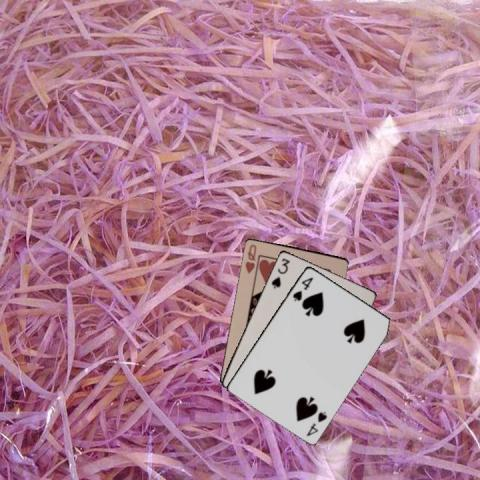3s: (268, 255, 291, 289)
4s: (289, 274, 315, 303), (303, 408, 328, 437)
Qh: (242, 241, 257, 274)
